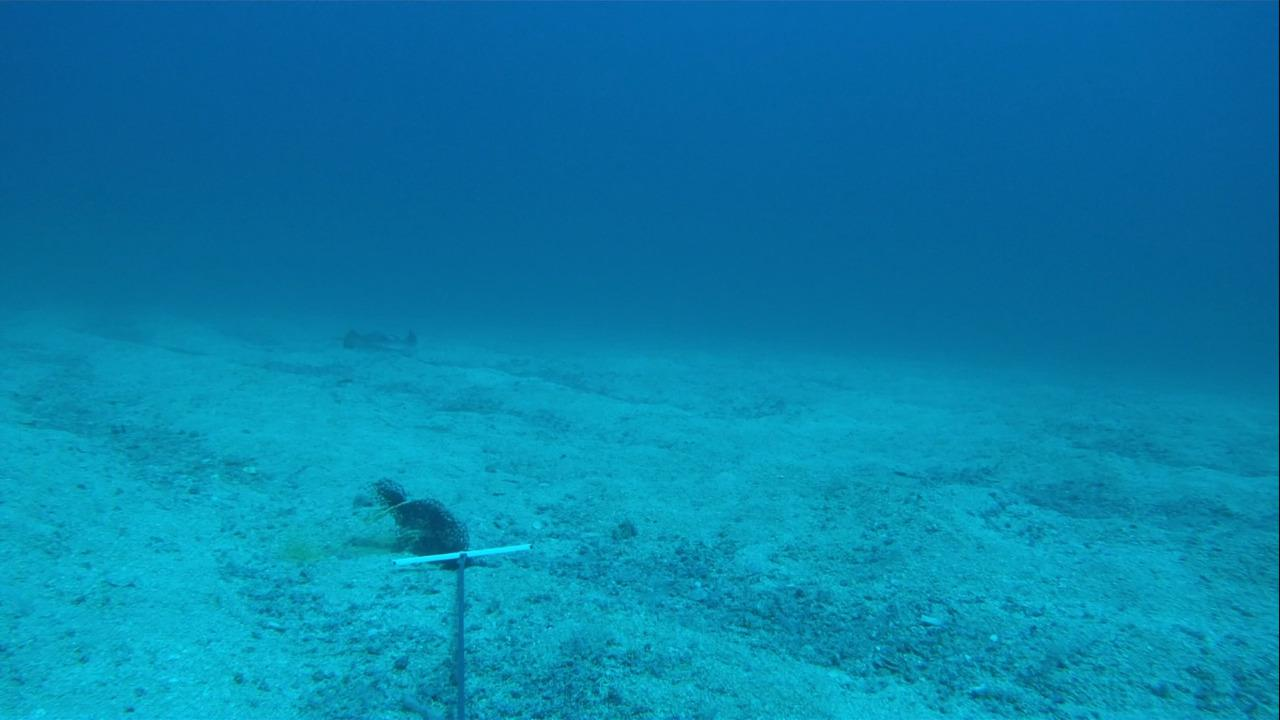myliobatis: (274, 312, 426, 360)
